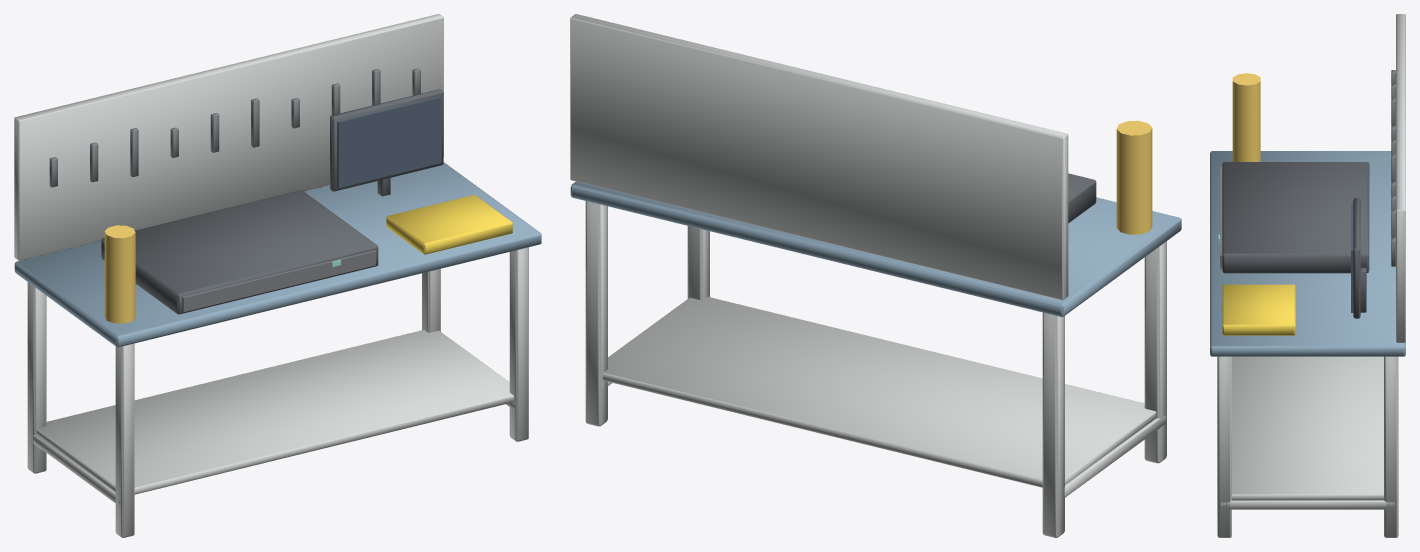
The model's file is workbench.glb.
3 views of the same model, side by side, from view 1: azimuth 30°, elevation 25°; view 2: azimuth 150°, elevation 25°; view 3: azimuth 270°, elevation 25° (orthographic). The views are drawn at different scales.
Visible parts, largest first — view 1: Body; view 2: Body; view 3: Body.
Boxes of the visible parts, x1,y1,x2,y2 form: Body: (14,14,541,537); Body: (570,14,1181,537); Body: (1210,14,1405,537).
Bounding box in the file's own units: 1.9 × 1.5 × 0.8.
